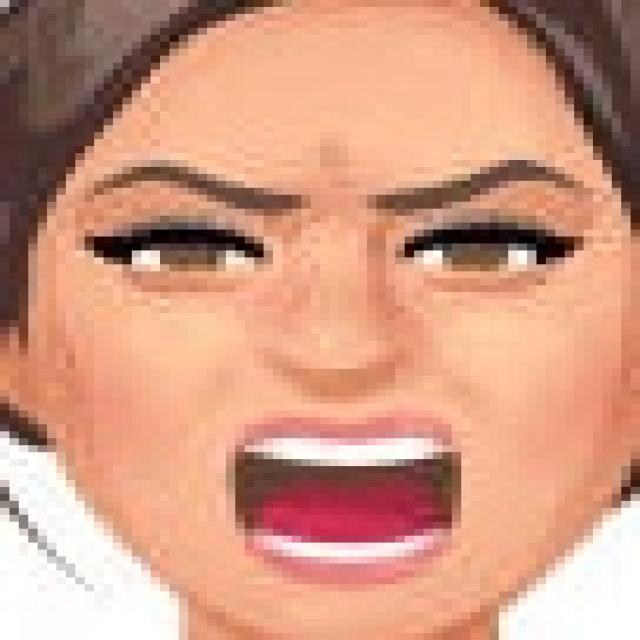Anxiety: (27, 0, 631, 633)
